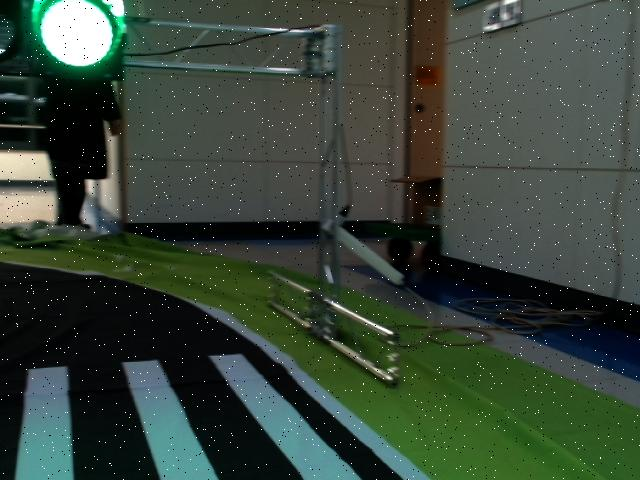crosswalk: (0, 352, 372, 480)
traffic light-green-: (0, 0, 128, 77)
